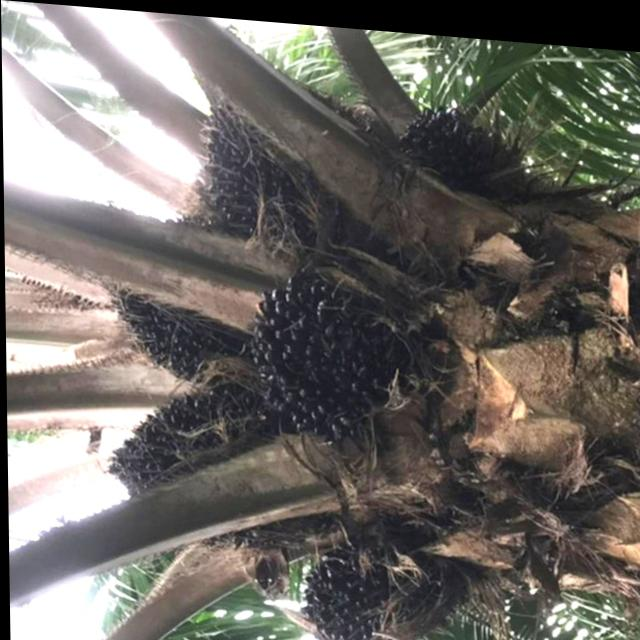almost: (240, 258, 414, 444)
